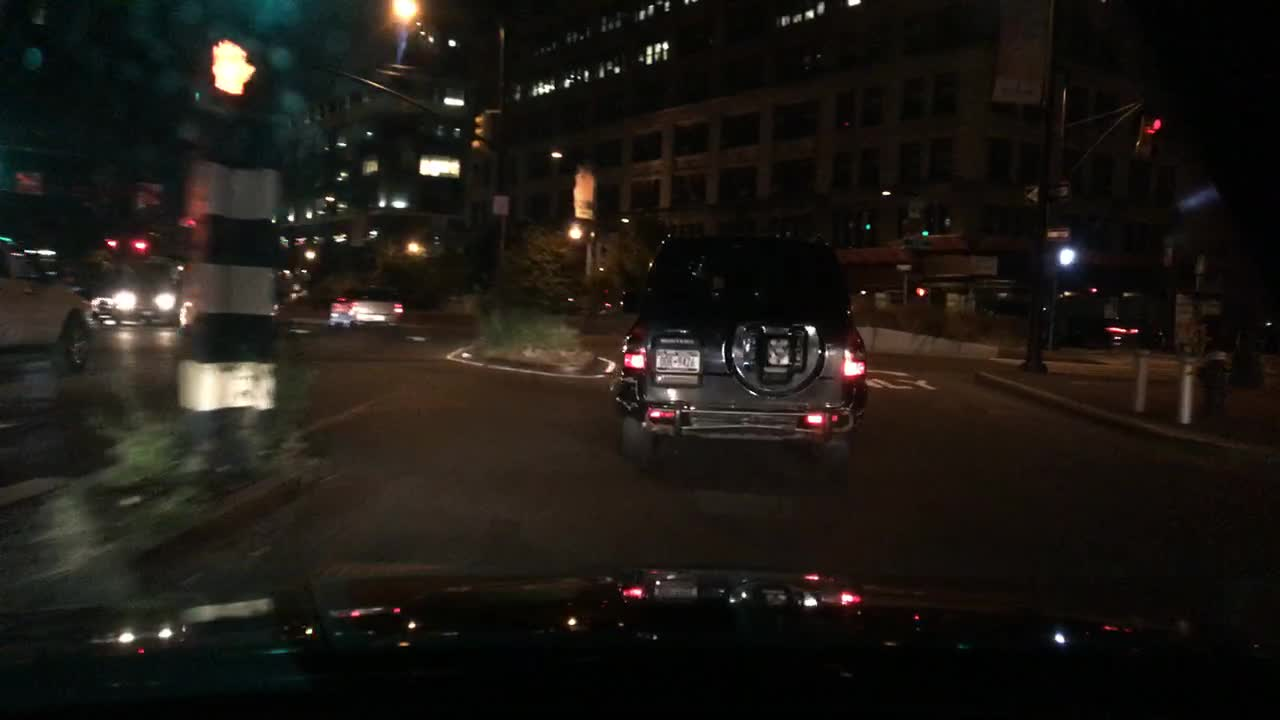car: (614, 225, 869, 470), (0, 222, 97, 374), (94, 256, 185, 328), (325, 288, 404, 335), (1100, 315, 1144, 350)
traffic light: (208, 32, 259, 109), (1135, 111, 1164, 158), (473, 111, 497, 152), (125, 234, 158, 253), (1054, 246, 1079, 271), (104, 232, 120, 254), (913, 283, 930, 300), (917, 225, 931, 238)
traffic sign: (1023, 184, 1072, 202), (491, 194, 511, 214), (1045, 228, 1070, 238)
